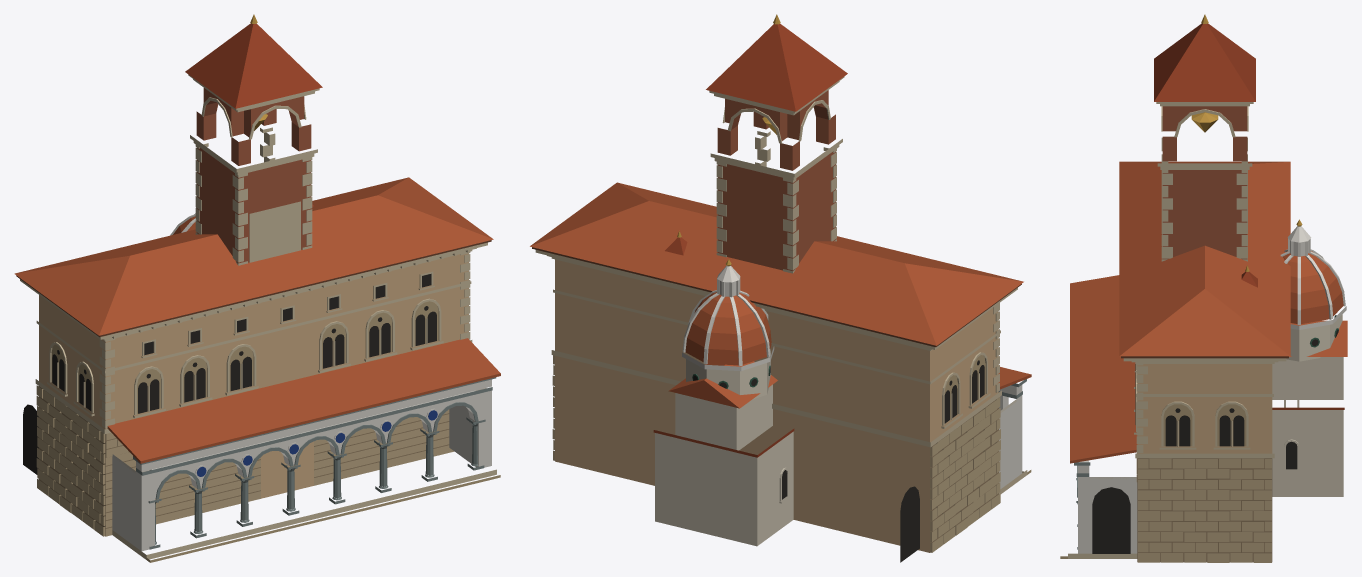
File: town_kit.glb
3 views of the same model, side by side, from view 1: azimuth 30°, elevation 25°; view 2: azimuth 150°, elevation 25°; view 3: azimuth 270°, elevation 25° (orthographic). The views are drawn at different scales.
Visible parts, largest first — view 1: palazzo, campanile, palazzo_glass; view 2: palazzo, chiesa, campanile, palazzo_glass; view 3: palazzo, campanile, chiesa, palazzo_glass, chiesa_glass.
Part boxes in pixels (x1,y1,x2,y2): palazzo: (14,177,500,562); campanile: (185,14,322,265); palazzo_glass: (52,274,436,413); palazzo: (530,182,1031,562); chiesa: (653,231,794,546); campanile: (706,14,847,273); palazzo_glass: (944,365,984,423); palazzo: (1060,161,1290,562); campanile: (1154,14,1255,261); chiesa: (1241,219,1347,496); palazzo_glass: (1165,415,1244,446); chiesa_glass: (1286,330,1338,469).
Bounding box in the file's own units: 23.9 × 26.25 × 14.9.
